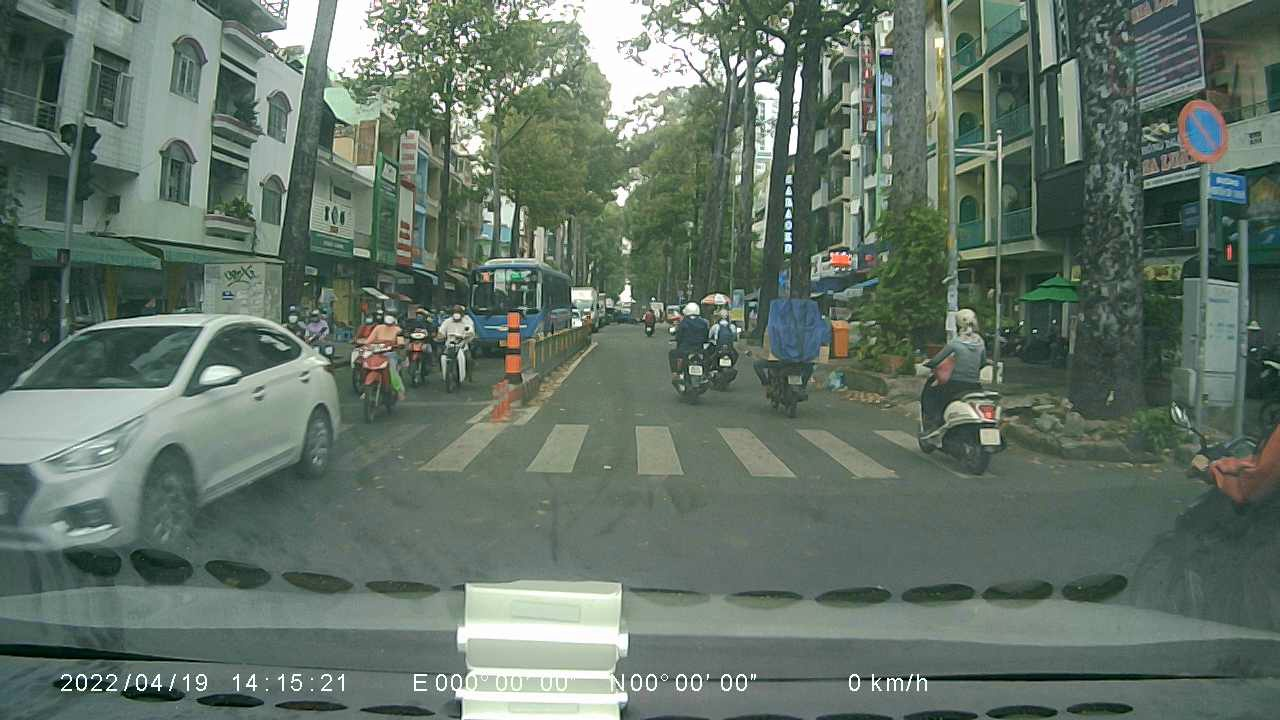Cam do xe: (1178, 97, 1231, 168)
